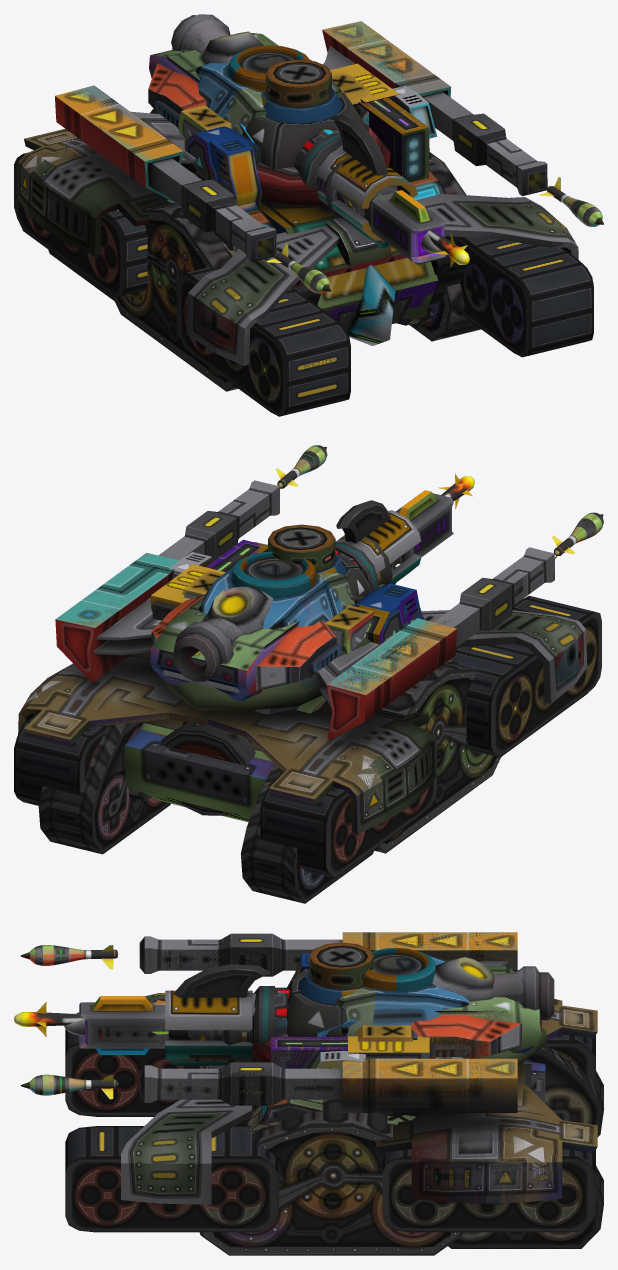
The model's file is Big Tool SciFi Ultra tank _edit.FBX.
3 views of the same model, one above another, from view 1: azimuth 30°, elevation 25°; view 2: azimuth 150°, elevation 25°; view 3: azimuth 270°, elevation 25° (orthographic). The views are drawn at different scales.
Visible parts, largest first — view 1: SciFi Ultra Tank 3, SciFi Ultra Tank 1.2_turret (×2), SciFi Ultra Tank 1, SciFi Ultra Tank 3.4, SciFi Ultra Tank 1.3, SciFi Ultra Tank 3.2_turret, SciFi Ultra Tank 3.3, SciFi Ultra Tank 3.4_turret, SciFi Ultra Tank 3.5, SciFi Ultra Tank 1.5_turret (×3), SciFi Ultra Tank 1.2, SciFi Ultra Tank 3.2 (+19 smaller); view 2: SciFi Ultra Tank 3.5, SciFi Ultra Tank 3, SciFi Ultra Tank 4, SciFi Ultra Tank 3_turret, SciFi Ultra Tank 1.5, SciFi Ultra Tank 4_turret, SciFi Ultra Tank 2.2_turret, SciFi Ultra Tank 3.4_turret, SciFi Ultra Tank 3.2, SciFi Ultra Tank 1.3, SciFi Ultra Tank 3.3, SciFi Ultra Tank 1.5_turret (×2) (+20 smaller); view 3: SciFi Ultra Tank 3, SciFi Ultra Tank 3.5, SciFi Ultra Tank 3.2, SciFi Ultra Tank 3.2_turret (×3), SciFi Ultra Tank 1.2, SciFi Ultra Tank 1.5, SciFi Ultra Tank 3.5_turret (×3), SciFi Ultra Tank 1.2_turret (×3), SciFi Ultra Tank 3.3, SciFi Ultra Tank 3.4, SciFi Ultra Tank 1.5_turret (×3), SciFi Ultra Tank 4_turret (+30 smaller).
Part boxes in pixels (box(x1,y1,x2,y2)): SciFi Ultra Tank 3: box(14, 139, 591, 414); SciFi Ultra Tank 1.2_turret (×2): box(185, 59, 417, 240); SciFi Ultra Tank 1: box(126, 14, 480, 391); SciFi Ultra Tank 3.4: box(96, 139, 593, 416); SciFi Ultra Tank 1.3: box(118, 16, 464, 386); SciFi Ultra Tank 3.2_turret: box(55, 21, 448, 192); SciFi Ultra Tank 3.3: box(176, 227, 529, 416); SciFi Ultra Tank 3.4_turret: box(60, 21, 450, 205); SciFi Ultra Tank 3.5: box(19, 128, 517, 415); SciFi Ultra Tank 1.5_turret (×3): box(184, 74, 433, 241); SciFi Ultra Tank 1.2: box(112, 40, 447, 390); SciFi Ultra Tank 3.2: box(187, 222, 571, 415); SciFi Ultra Tank 3.5: box(14, 612, 596, 870); SciFi Ultra Tank 3: box(26, 542, 594, 877); SciFi Ultra Tank 4: box(38, 695, 324, 903); SciFi Ultra Tank 3_turret: box(55, 571, 456, 739); SciFi Ultra Tank 1.5: box(148, 619, 487, 849); SciFi Ultra Tank 4_turret: box(151, 586, 339, 670); SciFi Ultra Tank 2.2_turret: box(151, 551, 344, 629); SciFi Ultra Tank 3.4_turret: box(55, 553, 435, 694); SciFi Ultra Tank 3.2: box(357, 612, 601, 805); SciFi Ultra Tank 1.3: box(203, 624, 500, 852); SciFi Ultra Tank 3.3: box(14, 659, 595, 877); SciFi Ultra Tank 1.5_turret (×2): box(268, 500, 420, 643); SciFi Ultra Tank 3: box(65, 993, 472, 1232); SciFi Ultra Tank 3.5: box(77, 999, 597, 1232); SciFi Ultra Tank 3.2: box(91, 1027, 597, 1232); SciFi Ultra Tank 3.2_turret (×3): box(144, 932, 517, 1105); SciFi Ultra Tank 1.2: box(205, 994, 548, 1255); SciFi Ultra Tank 1.5: box(199, 966, 554, 1253); SciFi Ultra Tank 3.5_turret (×3): box(139, 934, 517, 1112); SciFi Ultra Tank 1.2_turret (×3): box(165, 942, 373, 1068); SciFi Ultra Tank 3.3: box(82, 1027, 595, 1232); SciFi Ultra Tank 3.4: box(65, 1027, 595, 1232); SciFi Ultra Tank 1.5_turret (×3): box(165, 957, 373, 1068); SciFi Ultra Tank 4_turret: box(410, 957, 541, 1058).
Size of the model in its own units: 420 by 274 by 615.
Materials: 25 (25 with a texture image).
